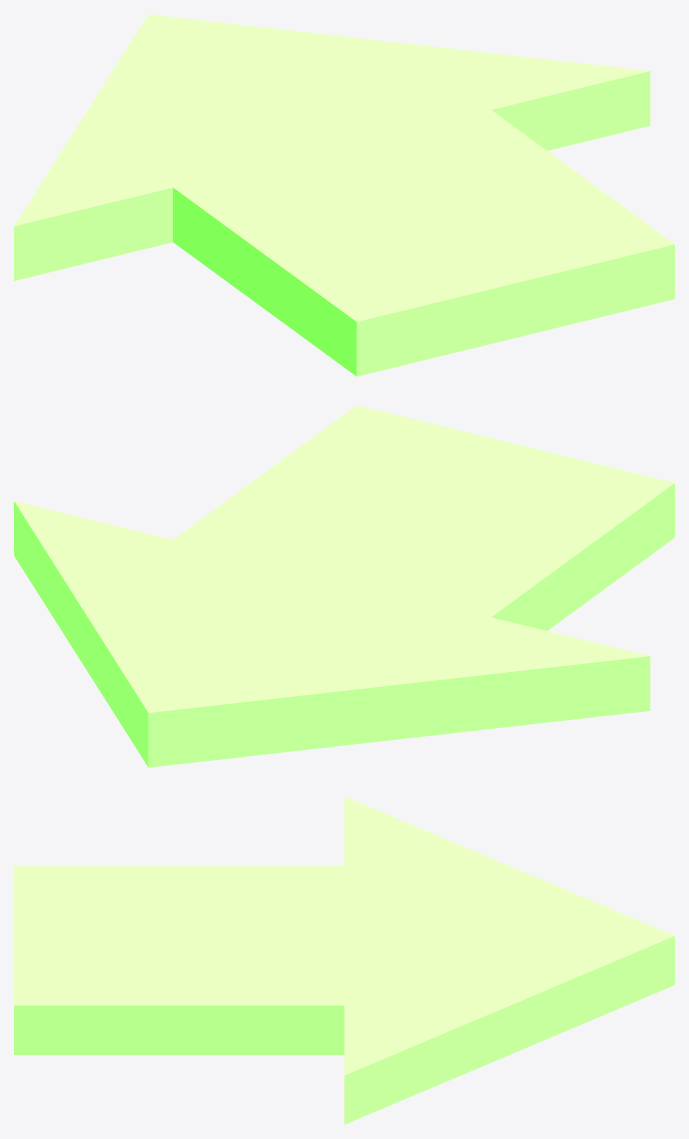
File: RotArrow.fbx
The picture shows the model from 3 angles, top to bottom: view 1: azimuth 30°, elevation 25°; view 2: azimuth 150°, elevation 25°; view 3: azimuth 270°, elevation 25°; orthographic projection. The views are drawn at different scales.
Parts seen in each view (by area): view 1: Arrow; view 2: Arrow; view 3: Arrow.
Boxes of the visible parts, x1=… form: Arrow: x1=14, y1=14, x2=674, y2=376; Arrow: x1=14, y1=405, x2=674, y2=767; Arrow: x1=14, y1=796, x2=674, y2=1124.
Bounding box in the file's own units: 1.14 × 0.0936 × 1.14.
